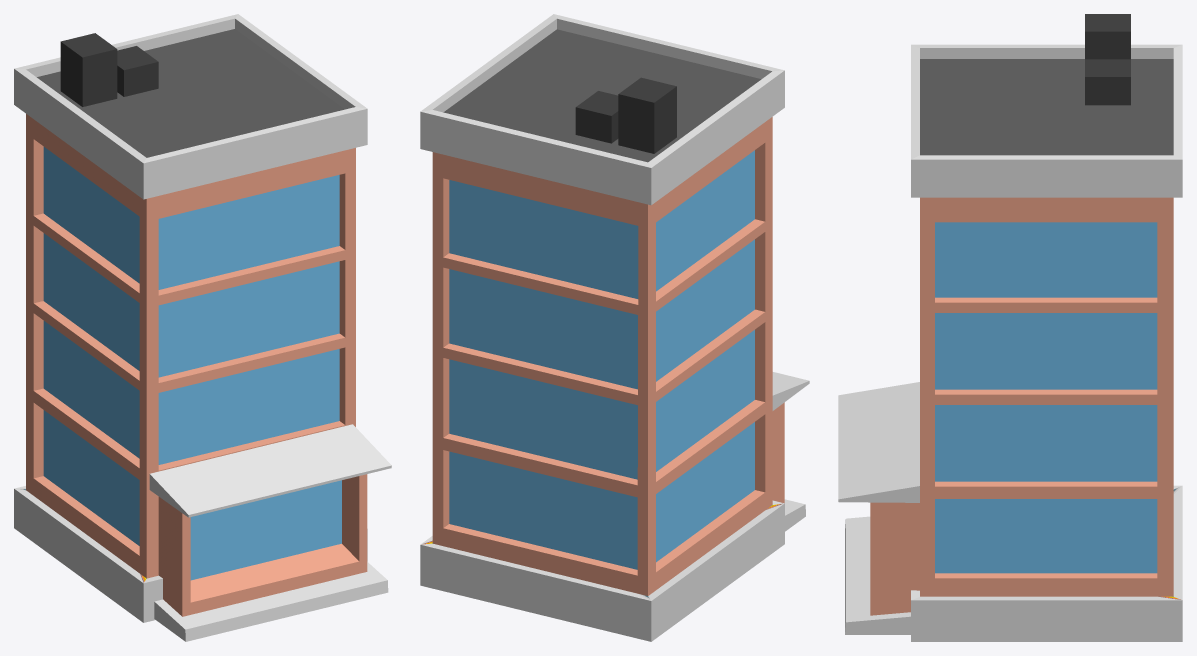
The model's file is build_2_1.dae.
The picture shows the model from 3 angles, left to right: view 1: azimuth 30°, elevation 25°; view 2: azimuth 150°, elevation 25°; view 3: azimuth 270°, elevation 25°; orthographic projection. The views are drawn at different scales.
Visible parts, largest first — view 1: house_2; view 2: house_2; view 3: house_2.
Part boxes in pixels (x1,y1,x2,y2): house_2: [14, 14, 391, 641]; house_2: [420, 14, 809, 641]; house_2: [838, 14, 1182, 641].
Size of the model in its own units: 6.95 by 8.8 by 14.79.
1 material, 1 textured.
